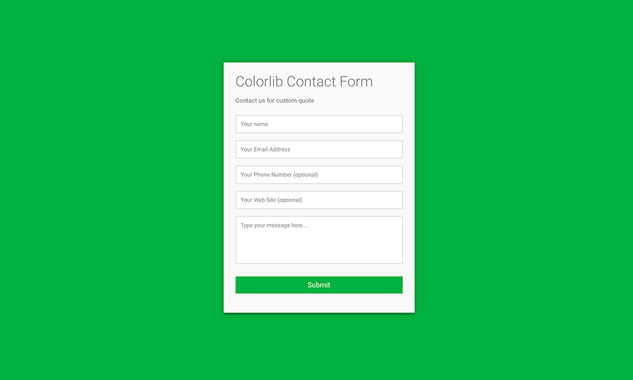_form_: (116, 1, 532, 380)
button: (233, 275, 406, 295)
field: (234, 215, 405, 267), (233, 189, 405, 211), (234, 113, 405, 134), (233, 164, 404, 185), (234, 139, 403, 159)
